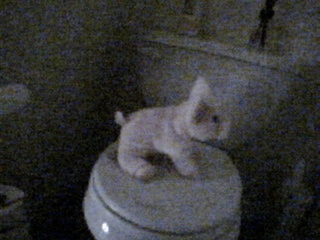piggy: (112, 75, 231, 182)
